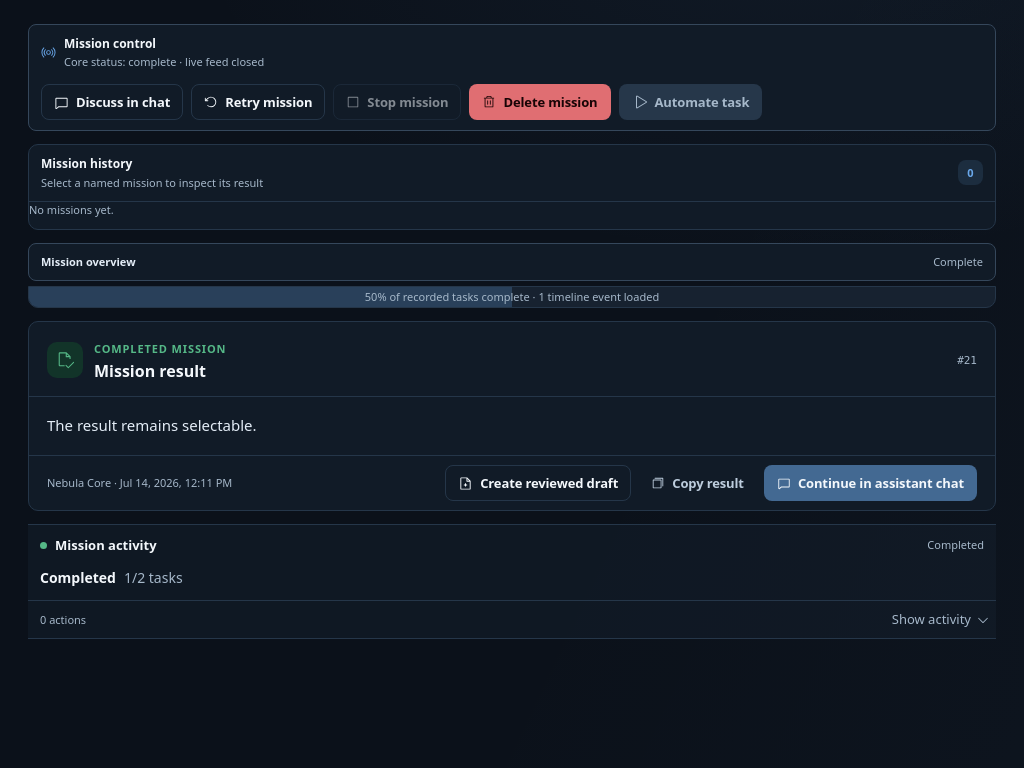
Scenario: mission activity › keeps the result usable when clipboard access fails
This screenshot has width=1024, height=768.
Click the button "Copy result": {"x": 698, "y": 483} [638,465,757,501]
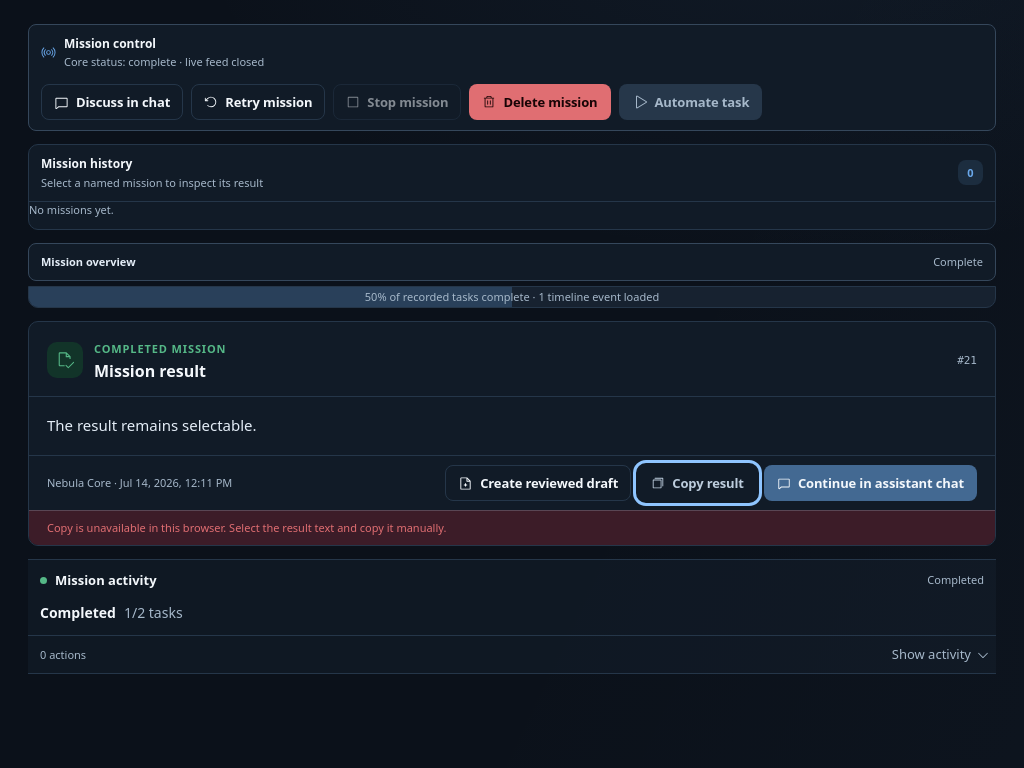
Expected: the text "The result remains selectable." is shown, [47,415,257,435]
Expected: the message shows "Select the result text and copy it manually.", [47,520,446,535]
